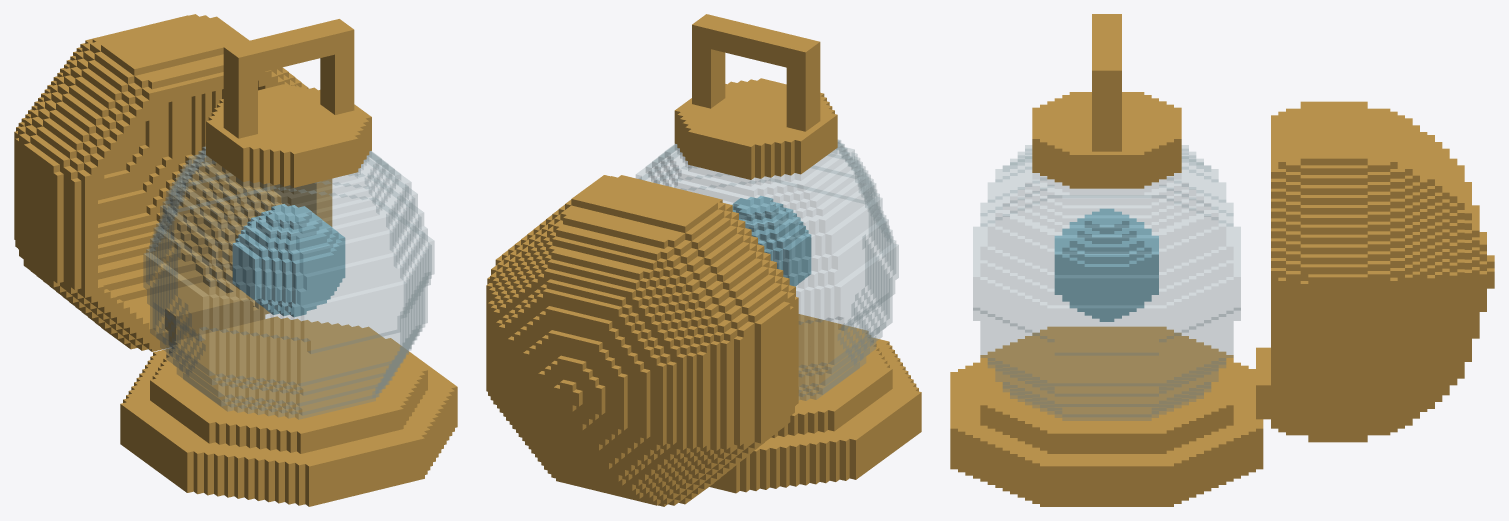
File: glow_light.glb
3 views of the same model, side by side, from view 1: azimuth 30°, elevation 25°; view 2: azimuth 150°, elevation 25°; view 3: azimuth 270°, elevation 25° (orthographic). The views are drawn at different scales.
Parts seen in each view (by area): view 1: glow_light:compound; view 2: glow_light:compound; view 3: glow_light:compound.
Boxes of the visible parts, <box> form: glow_light:compound: <box>14,14,457,506</box>; glow_light:compound: <box>486,14,921,506</box>; glow_light:compound: <box>950,14,1494,506</box>.
Size of the model in its own units: 0.084 by 0.118 by 0.146.
